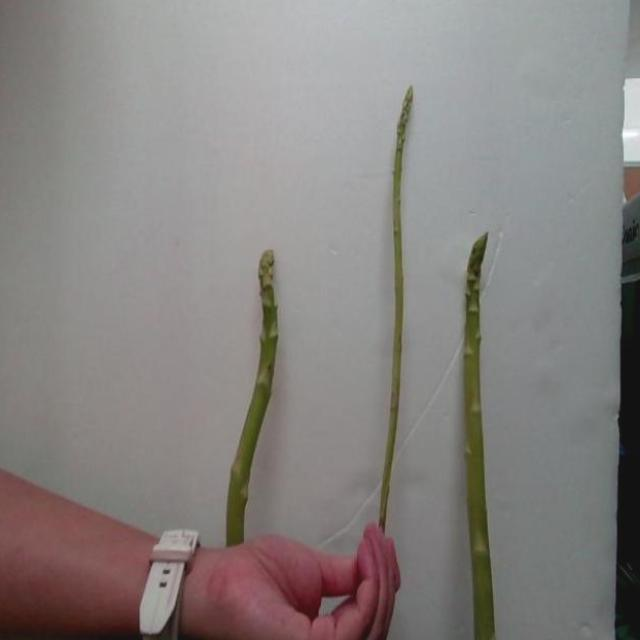aspargus: (376, 87, 415, 534), (226, 253, 281, 549), (460, 233, 497, 640)
